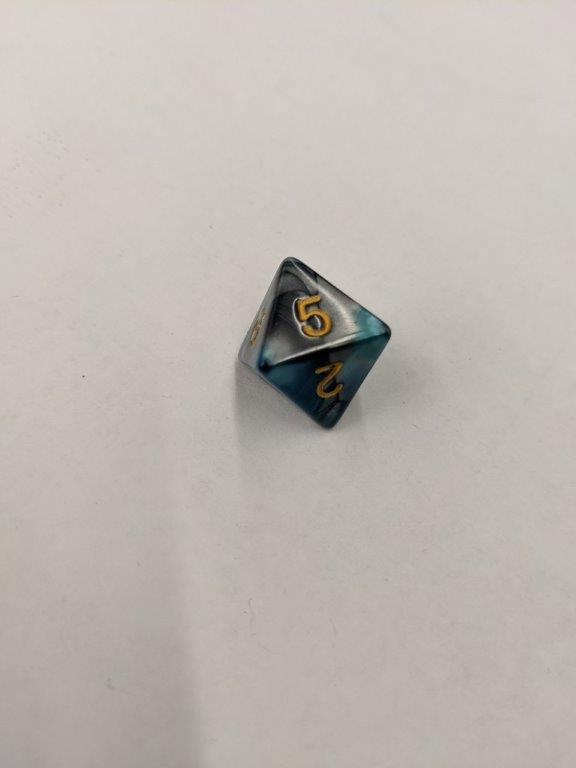d8-5: (234, 256, 392, 431)
